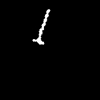half_double_crochet: (33, 10, 49, 43)
